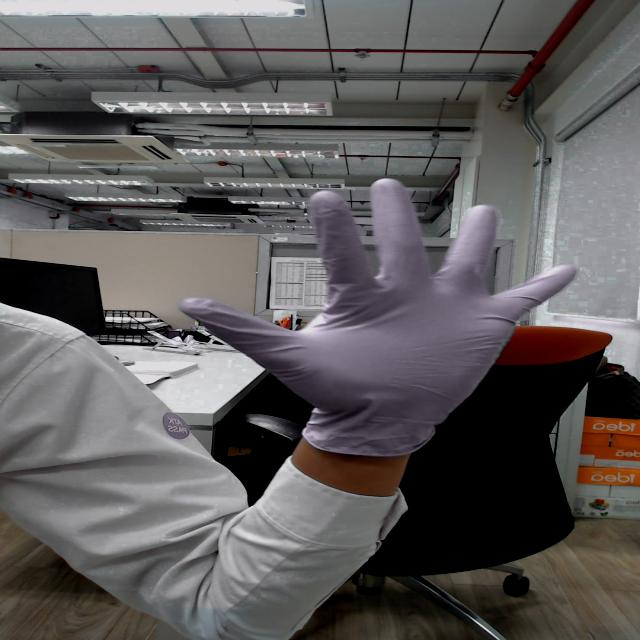glove: (171, 143, 577, 420)
